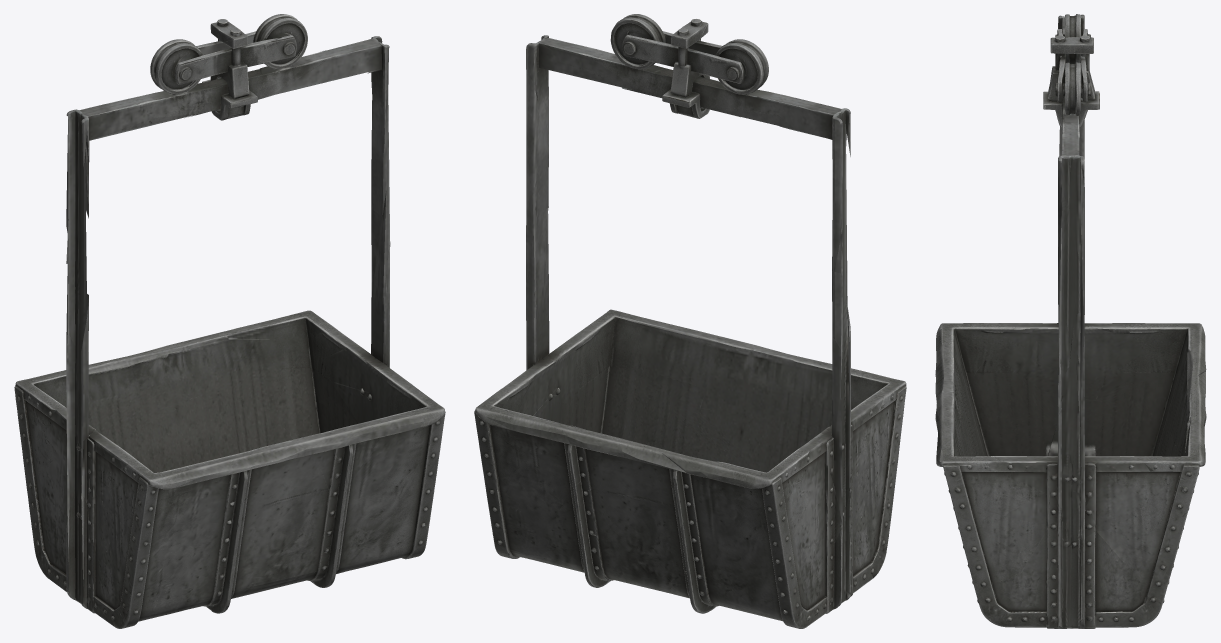
Rendered from ropeway_bucket_v2.glb.
3 renders of one model, left to right at view 1: azimuth 30°, elevation 25°; view 2: azimuth 150°, elevation 25°; view 3: azimuth 270°, elevation 25°, orthographic. The views are drawn at different scales.
Size of the model in its own units: 1.15 by 1.9 by 0.8878.
1 material, 1 textured.
